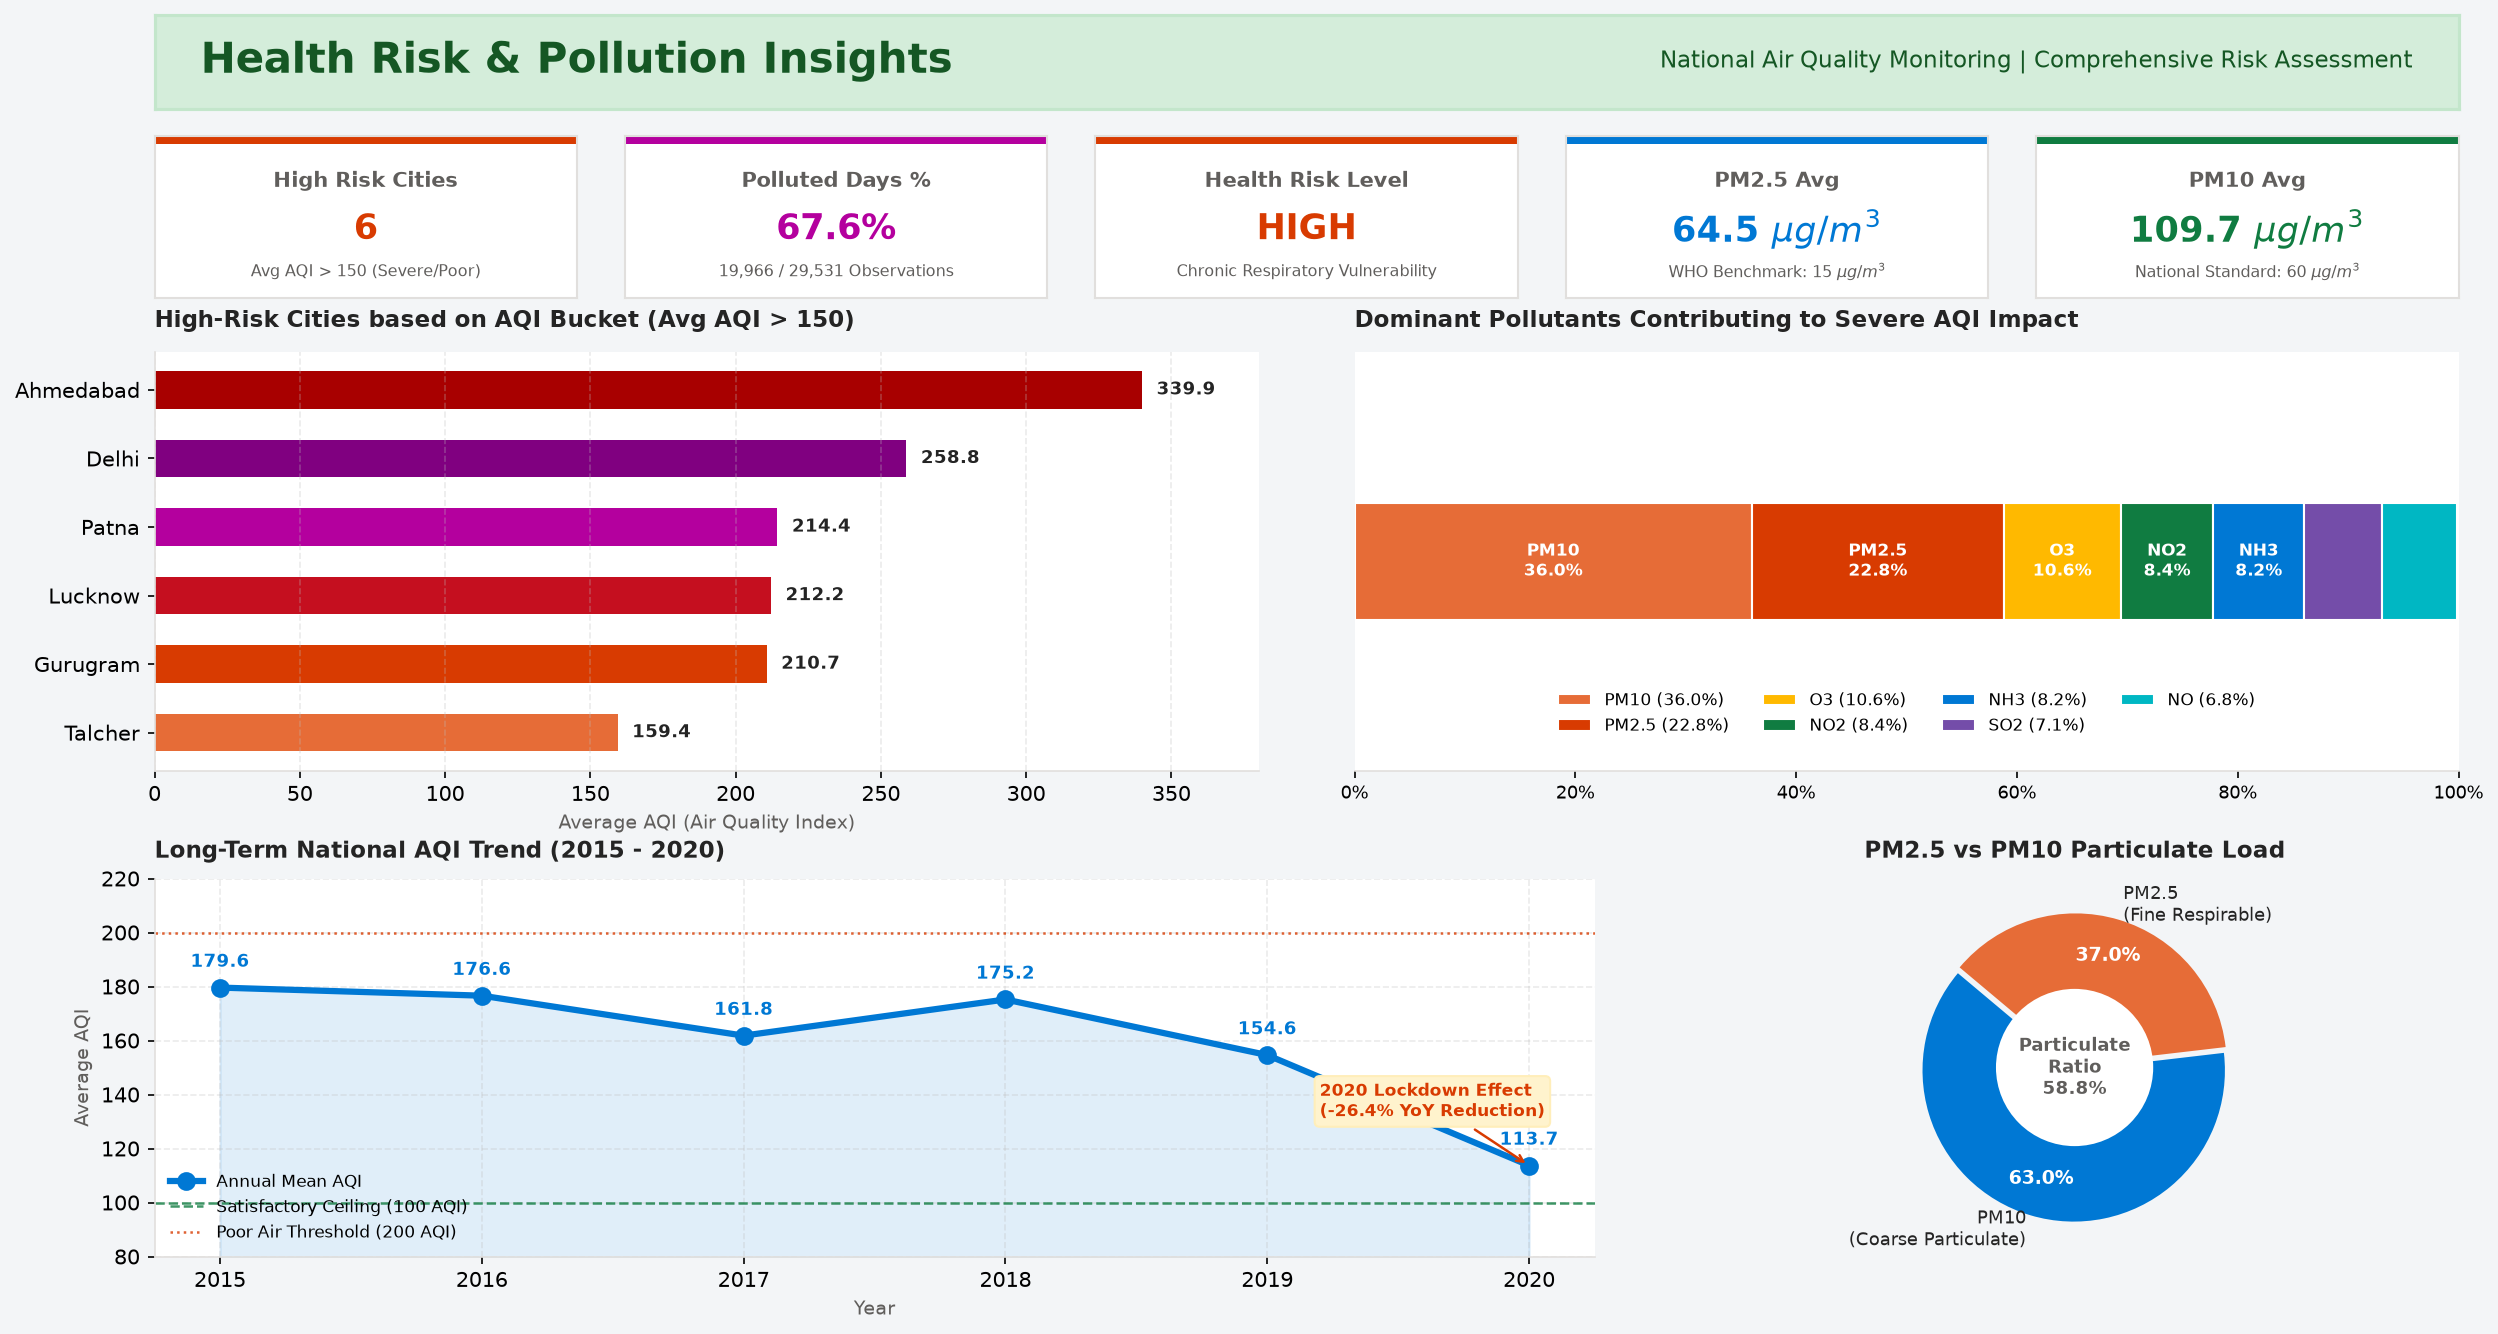

The dashboard page shown, as its layout file describes it:
{"tool":"powerbi","page":{"name":"Health Risk & Pollution Insights","canvas":[1280,720],"ordinal":1},"visuals":[{"type":"shape","box":[0,0,1400.1,81.9],"z":0},{"type":"textbox","box":[24.5,12.2,571.1,55],"z":1000},{"type":"cardVisual","fields":{"Data":["Health Risk & Pollution Insights.High Risk Cities","Health Risk & Pollution Insights.Polluted Days %","Health Risk & Pollution Insights.Health Risk Level","National Air Quality Monitoring Dashboardle.PM25 Avg","National Air Quality Monitoring Dashboardle.PM10 Avg"]},"box":[0,80.7,244.6,639.5],"z":2000},{"type":"barChart","title":"High-risk cities based on AQI Bucket With Avg Aqi >150","fields":{"Category":["AQI_Data.City"],"Y":["National Air Quality Monitoring Dashboardle.Avg AQI"]},"box":[244.3,435,607.9,285.4],"z":3000},{"type":"hundredPercentStackedBarChart","title":"•\tDominant pollutants causing poor AQI","fields":{"Y":["National Air Quality Monitoring Dashboardle.NO2 Avg","National Air Quality Monitoring Dashboardle.O3 Avg","National Air Quality Monitoring Dashboardle.PM10 Avg","National Air Quality Monitoring Dashboardle.PM25 Avg","National Air Quality Monitoring Dashboardle.SO2 Avg","National Air Quality Monitoring Dashboardle.CO Avg"]},"box":[244.3,81,550.3,354],"z":4000},{"type":"lineChart","title":"Long-term AQI trend analysis","fields":{"Y":["National Air Quality Monitoring Dashboardle.Avg AQI"],"Category":["AQI_Data.Date.Variation.Date Hierarchy.Year"]},"box":[794,81,486,354],"z":5000},{"type":"pieChart","title":"PM2.5 vs PM 10 Comparison","fields":{"Y":["National Air Quality Monitoring Dashboardle.PM10 Avg","National Air Quality Monitoring Dashboardle.PM25 Avg"]},"box":[852.3,435.3,428,284.9],"z":6000}]}

Visuals, with their boxes on the page's 1280x720 design canvas (x1, y1, x2, y2). These are canvas units, not pixel positions in the 2498x1334 screenshot, which may show the page scaled, cropped or inside an application window:
shape: [x1=0, y1=0, x2=1400, y2=82]
textbox: [x1=24, y1=12, x2=596, y2=67]
cardVisual - Health Risk & Pollution Insights.High Risk Cities x Health Risk & Pollution Insights.Polluted Days %: [x1=0, y1=81, x2=245, y2=720]
"High-risk cities based on AQI Bucket With Avg Aqi >150" barChart: [x1=244, y1=435, x2=852, y2=720]
"•	Dominant pollutants causing poor AQI" hundredPercentStackedBarChart: [x1=244, y1=81, x2=795, y2=435]
"Long-term AQI trend analysis" lineChart: [x1=794, y1=81, x2=1280, y2=435]
"PM2.5 vs PM 10 Comparison" pieChart: [x1=852, y1=435, x2=1280, y2=720]
